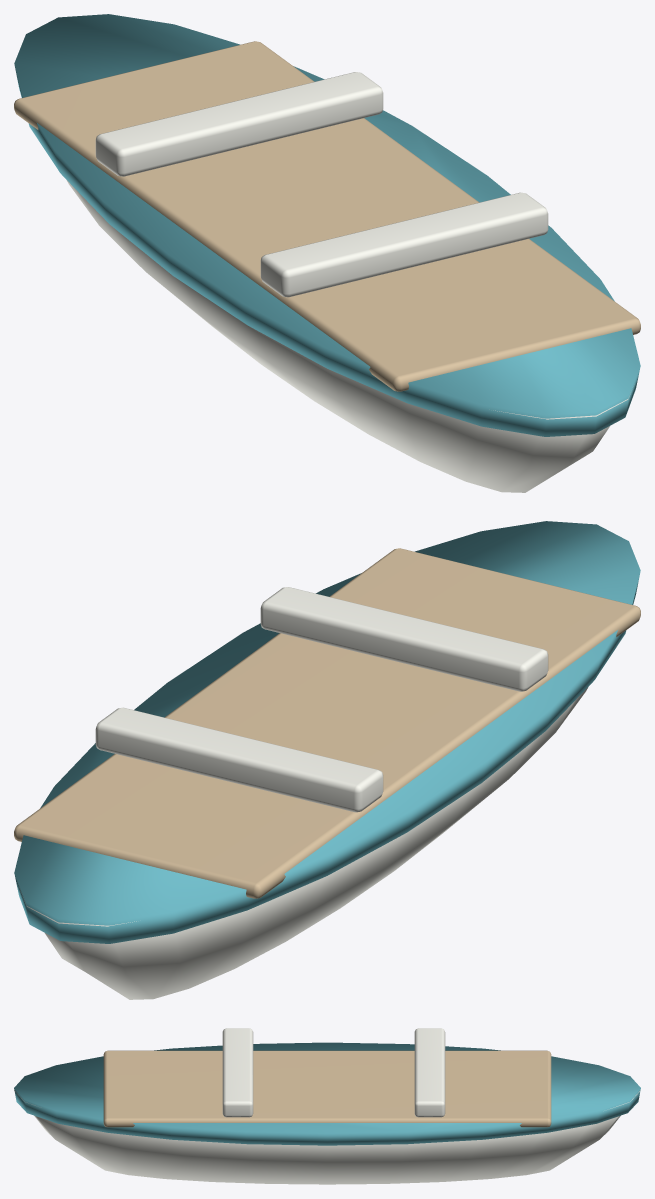
File: st_boat_v02.fbx
3 views of the same model, one above another, from view 1: azimuth 30°, elevation 25°; view 2: azimuth 150°, elevation 25°; view 3: azimuth 270°, elevation 25° (orthographic). The views are drawn at different scales.
Parts seen in each view (by area): view 1: Deck, Gunwale, Hull, Seat.001, Seat; view 2: Deck, Gunwale, Hull, Seat, Seat.001; view 3: Deck, Hull, Gunwale, Seat, Seat.001.
Part boxes in pixels (x1,y1,x2,y2): Deck: (14,41,640,391); Gunwale: (14,14,640,436); Hull: (66,180,630,492); Seat.001: (260,192,548,297); Seat: (95,72,383,176); Deck: (14,548,640,898); Gunwale: (14,521,640,943); Hull: (19,687,588,999); Seat: (95,707,383,812); Seat.001: (260,587,548,691); Deck: (103,1050,551,1127); Hull: (14,1090,640,1184); Gunwale: (14,1042,640,1145); Seat: (414,1028,445,1117); Seat.001: (222,1028,253,1117).
Bounding box in the file's own units: 1.68 × 0.87 × 4.9.
